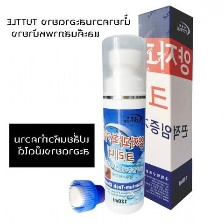aerosol_cans: (99, 32, 149, 217)
book: (135, 3, 195, 212)
